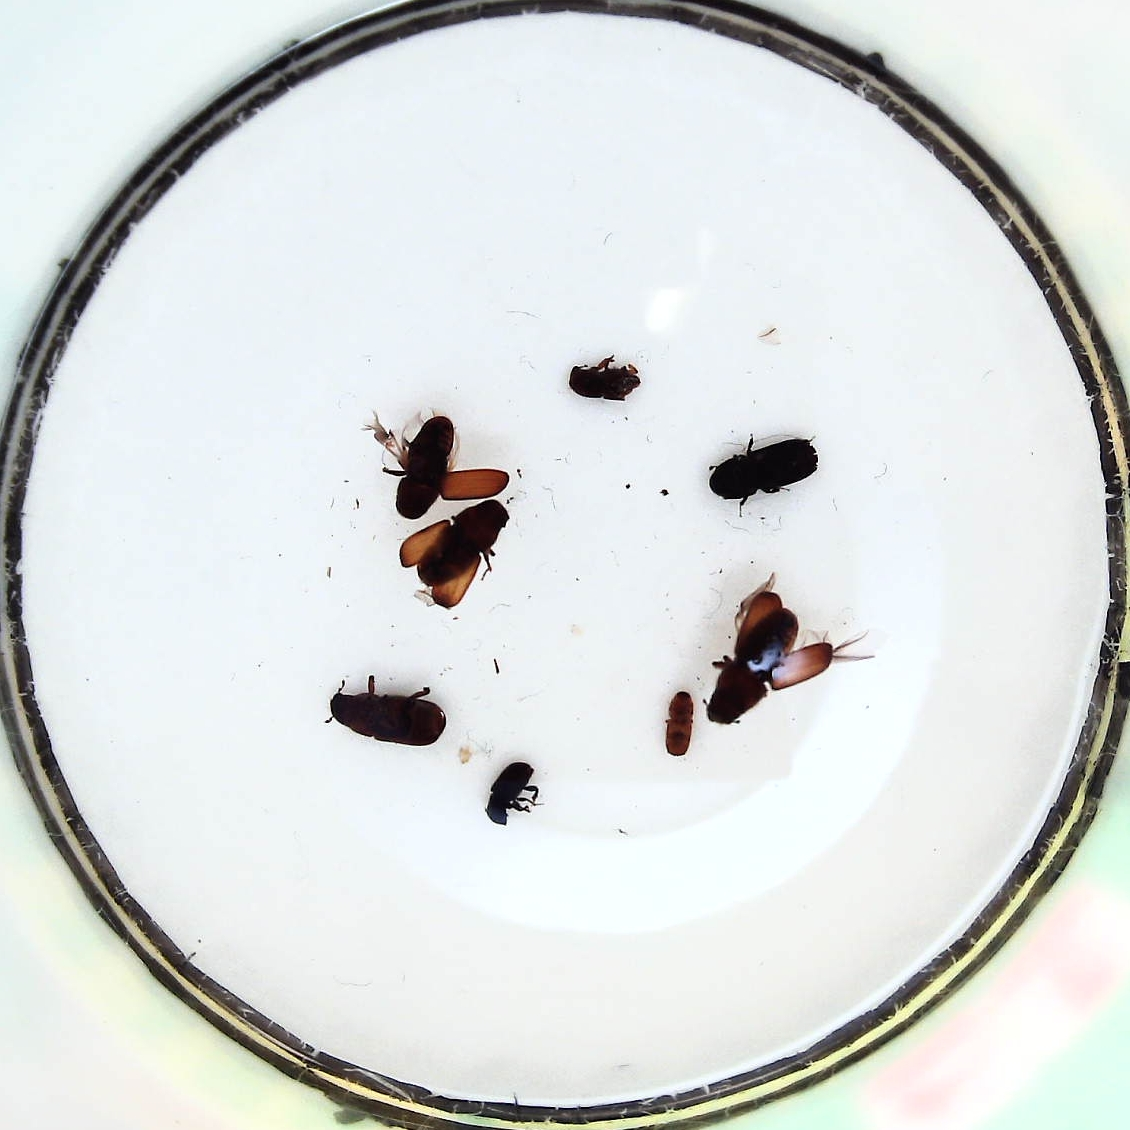Boerner: (704, 432, 823, 501)
Leconte: (705, 585, 846, 724), (389, 408, 499, 508), (399, 508, 509, 606), (327, 675, 448, 749)
Linnaeus: (565, 355, 638, 406)
acuminatus: (659, 683, 702, 757)
armandi: (484, 760, 541, 826)
